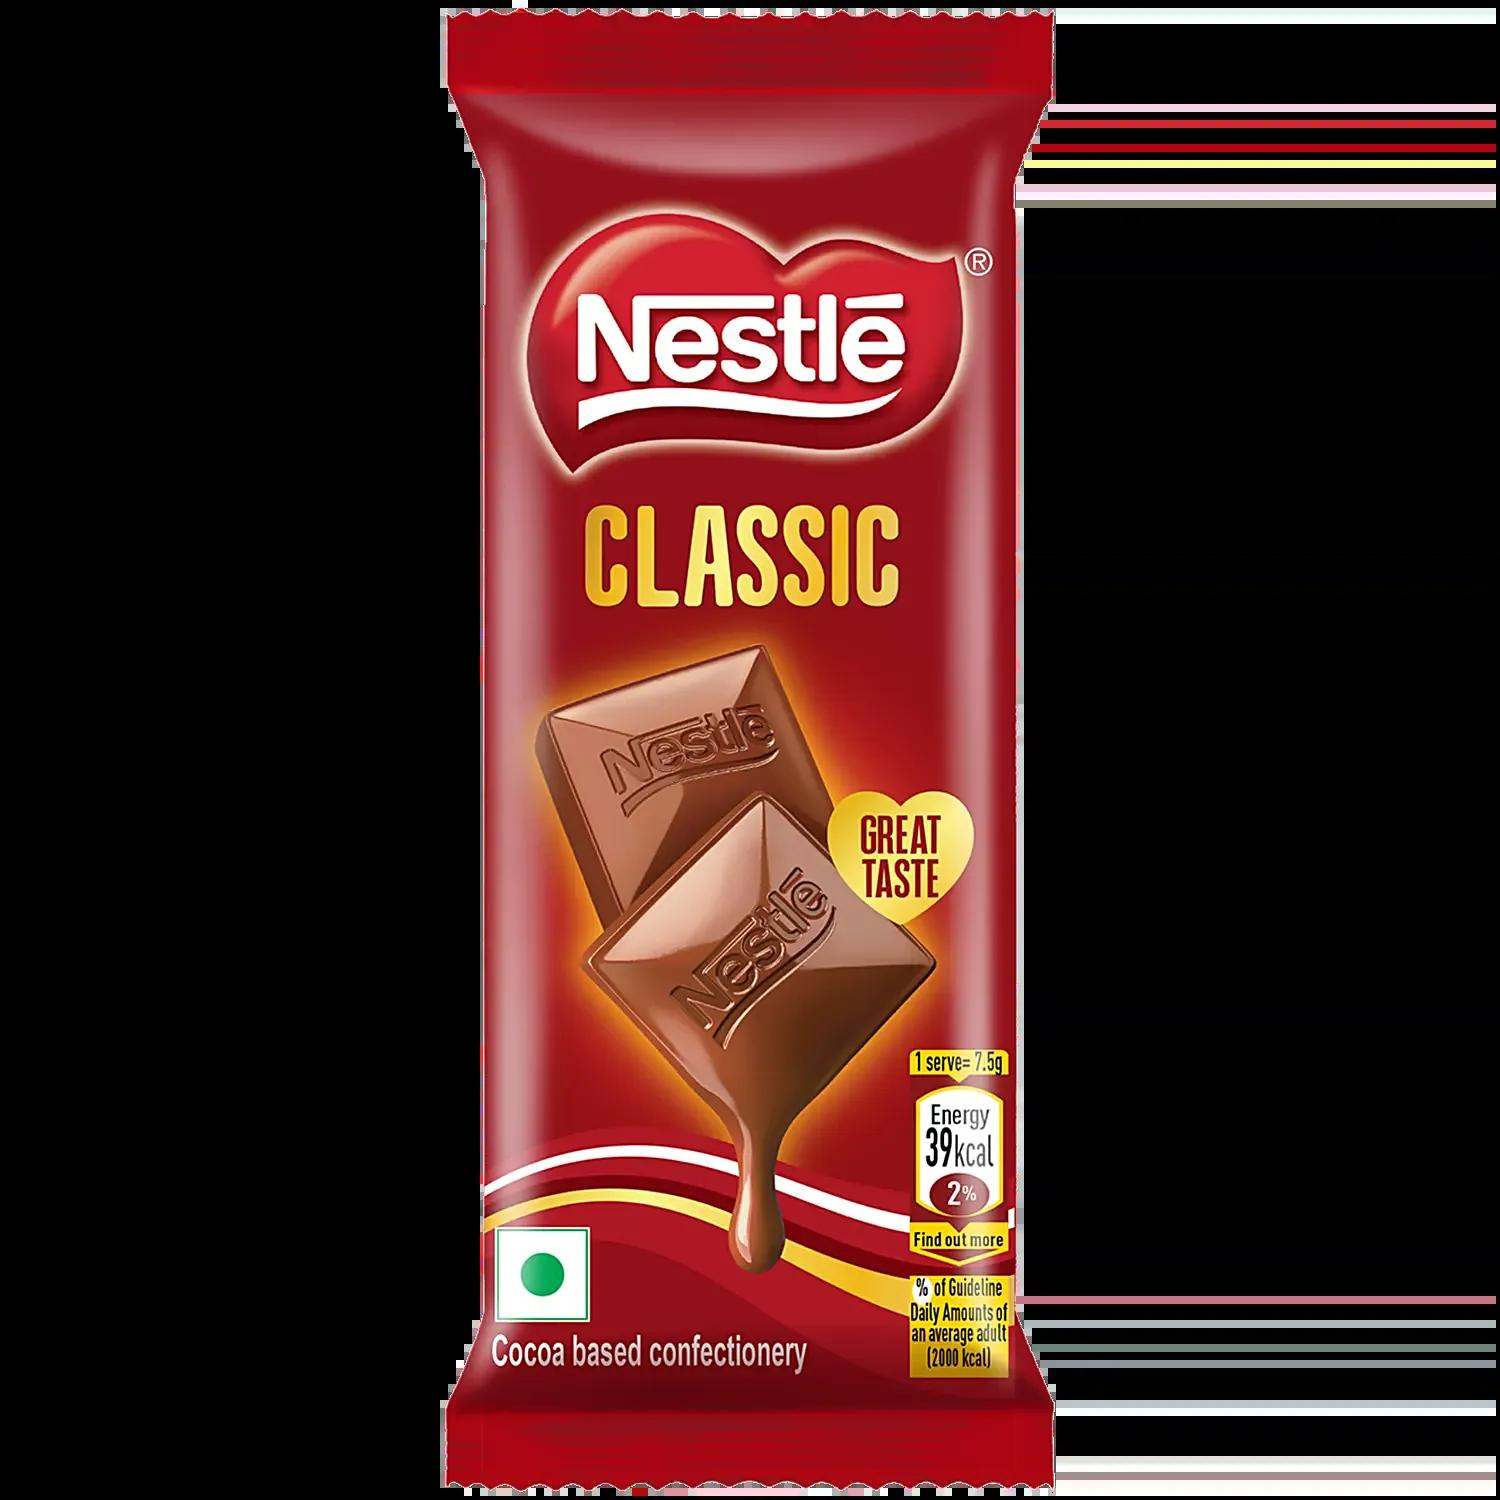chocolate: (448, 7, 1060, 1473)
